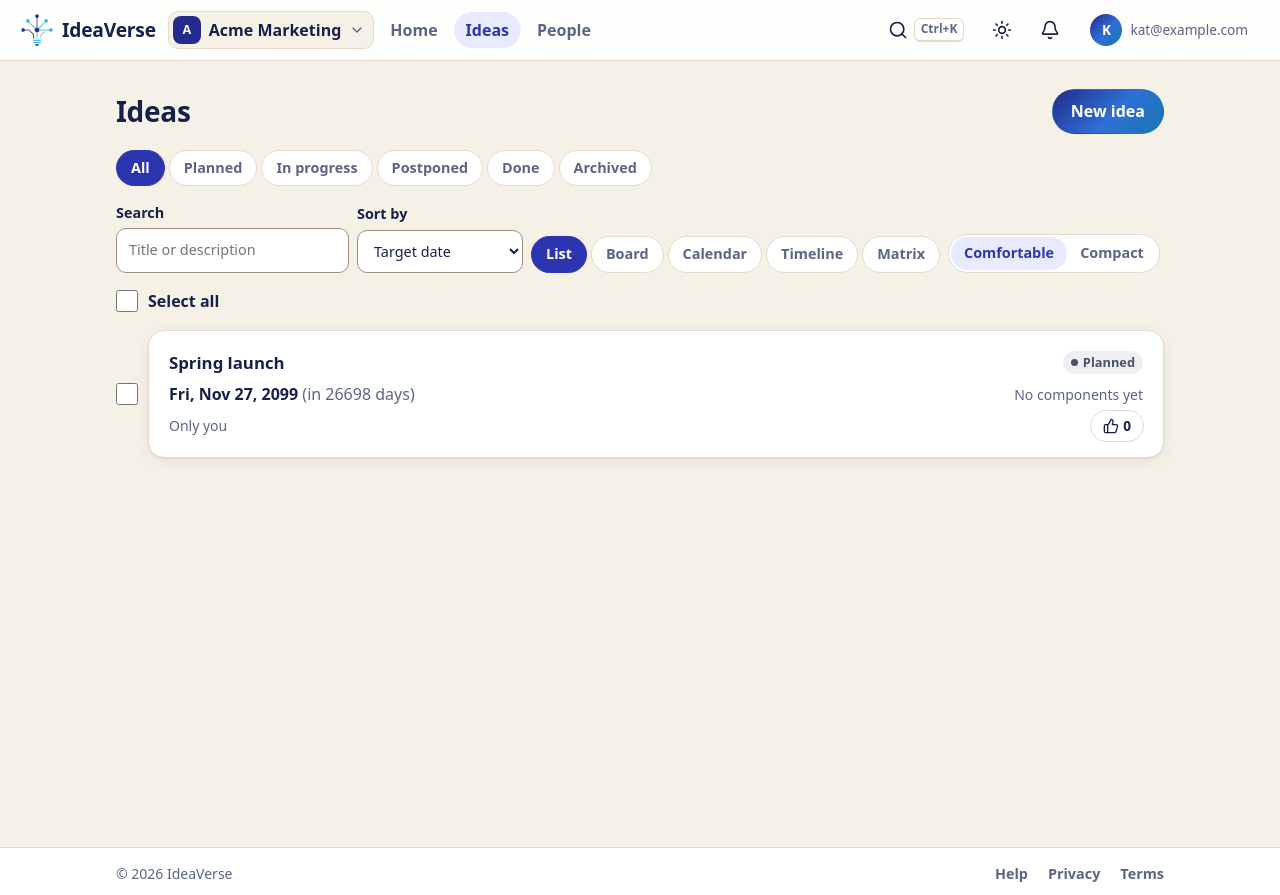
Test: Command palette › opens the new idea form, even on the ideas page
Expected: the heading "Ideas" is shown, [116, 94, 191, 129]
Type keys "{Control>}k{/Control}"
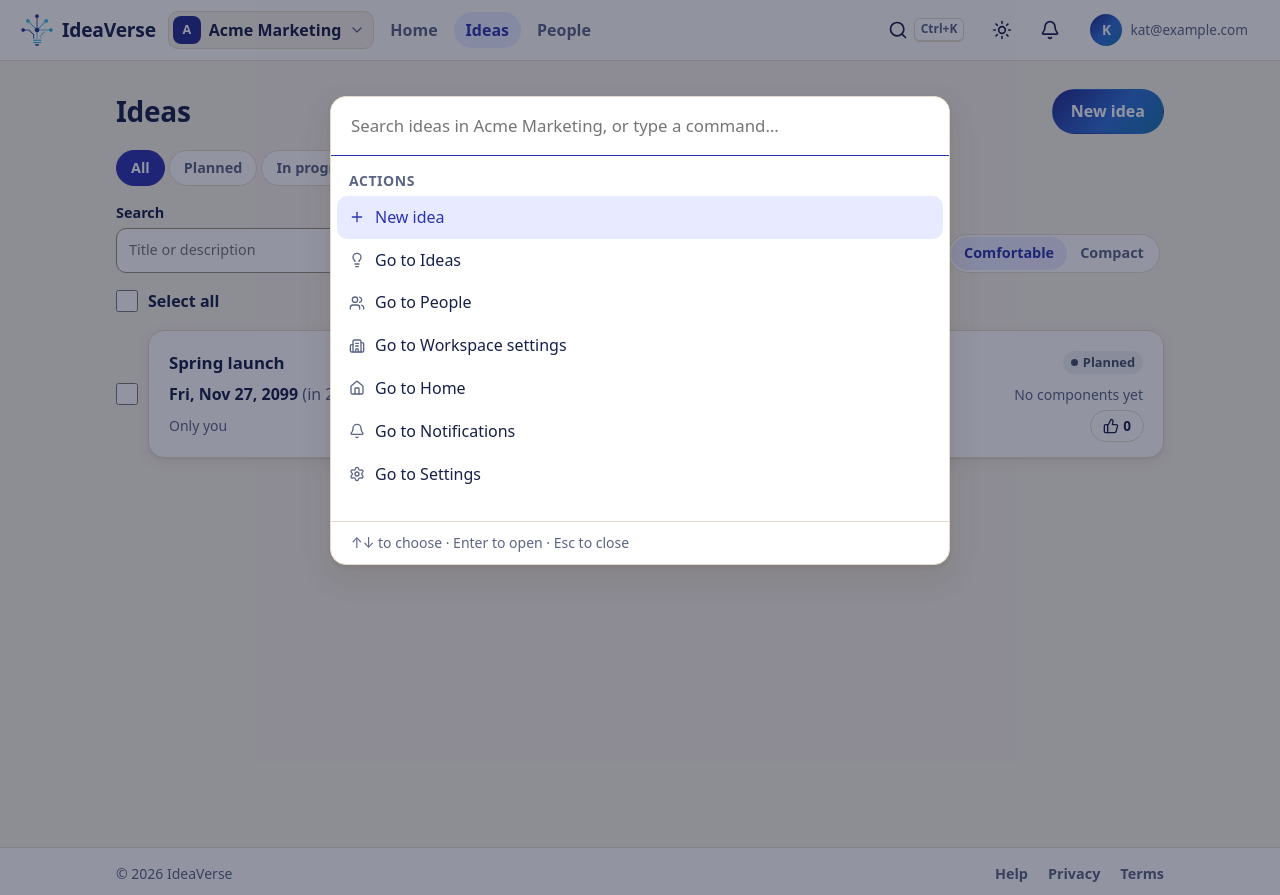
Type "new" into the dropdown named "Search ideas or type a command" at [640, 126], box [331, 97, 949, 156]
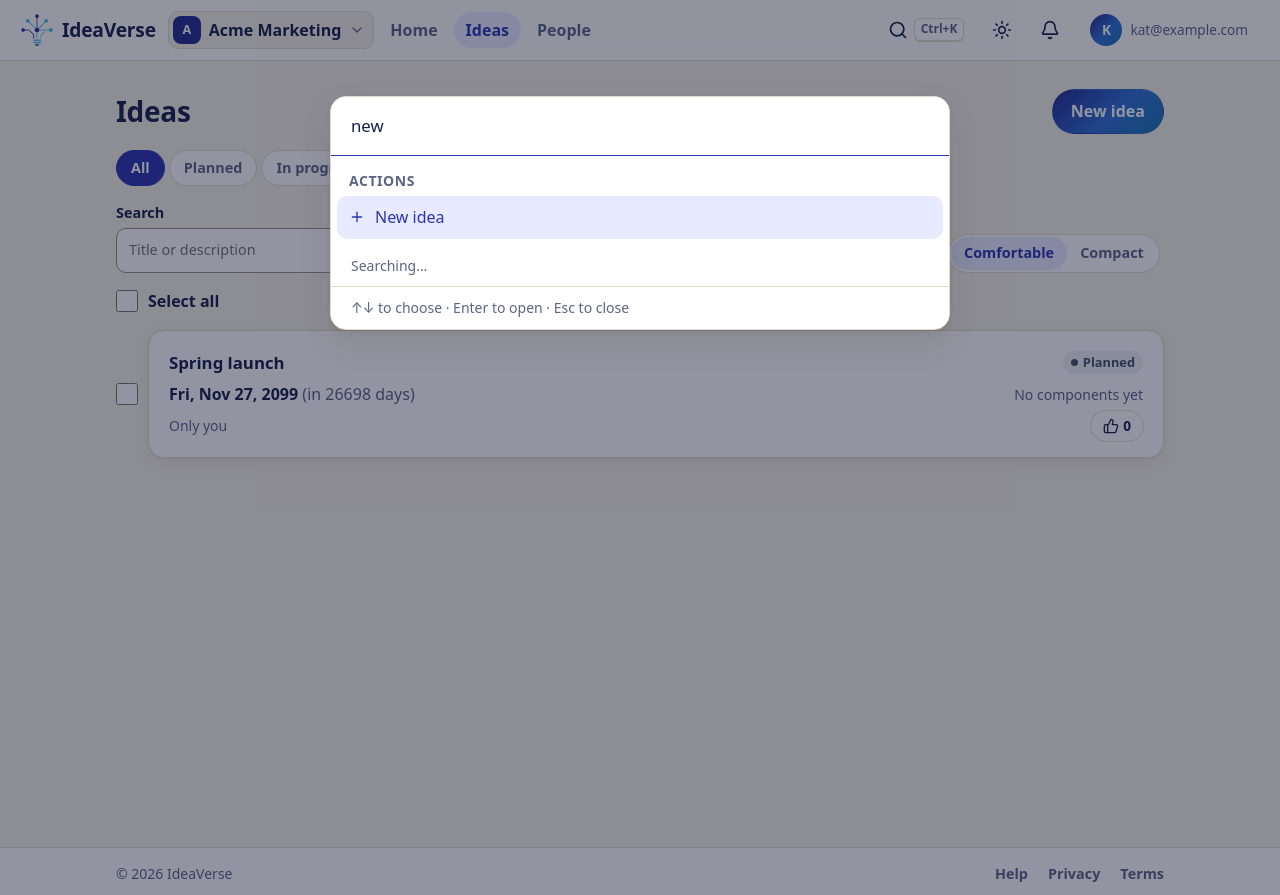
Press Enter
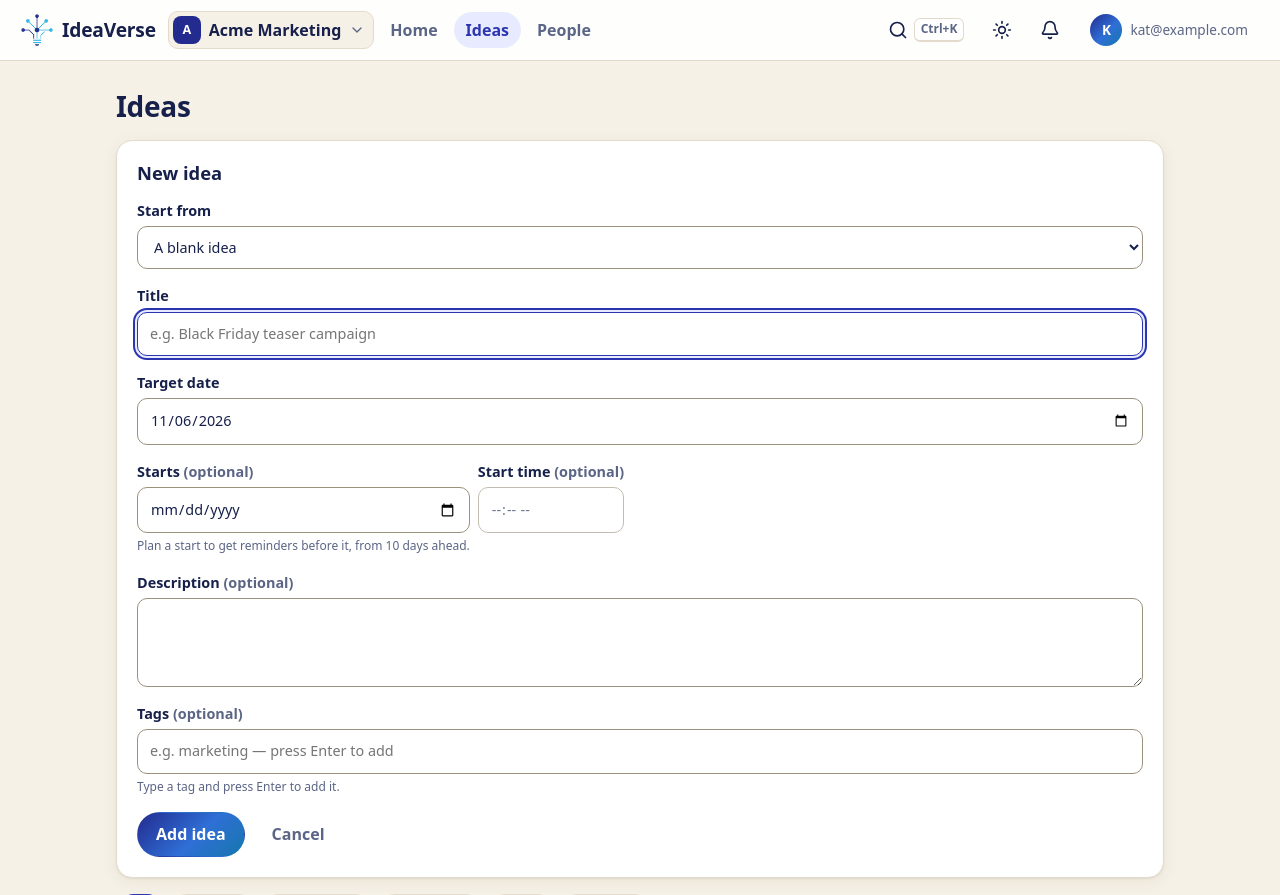
Now the form "New idea" is shown
